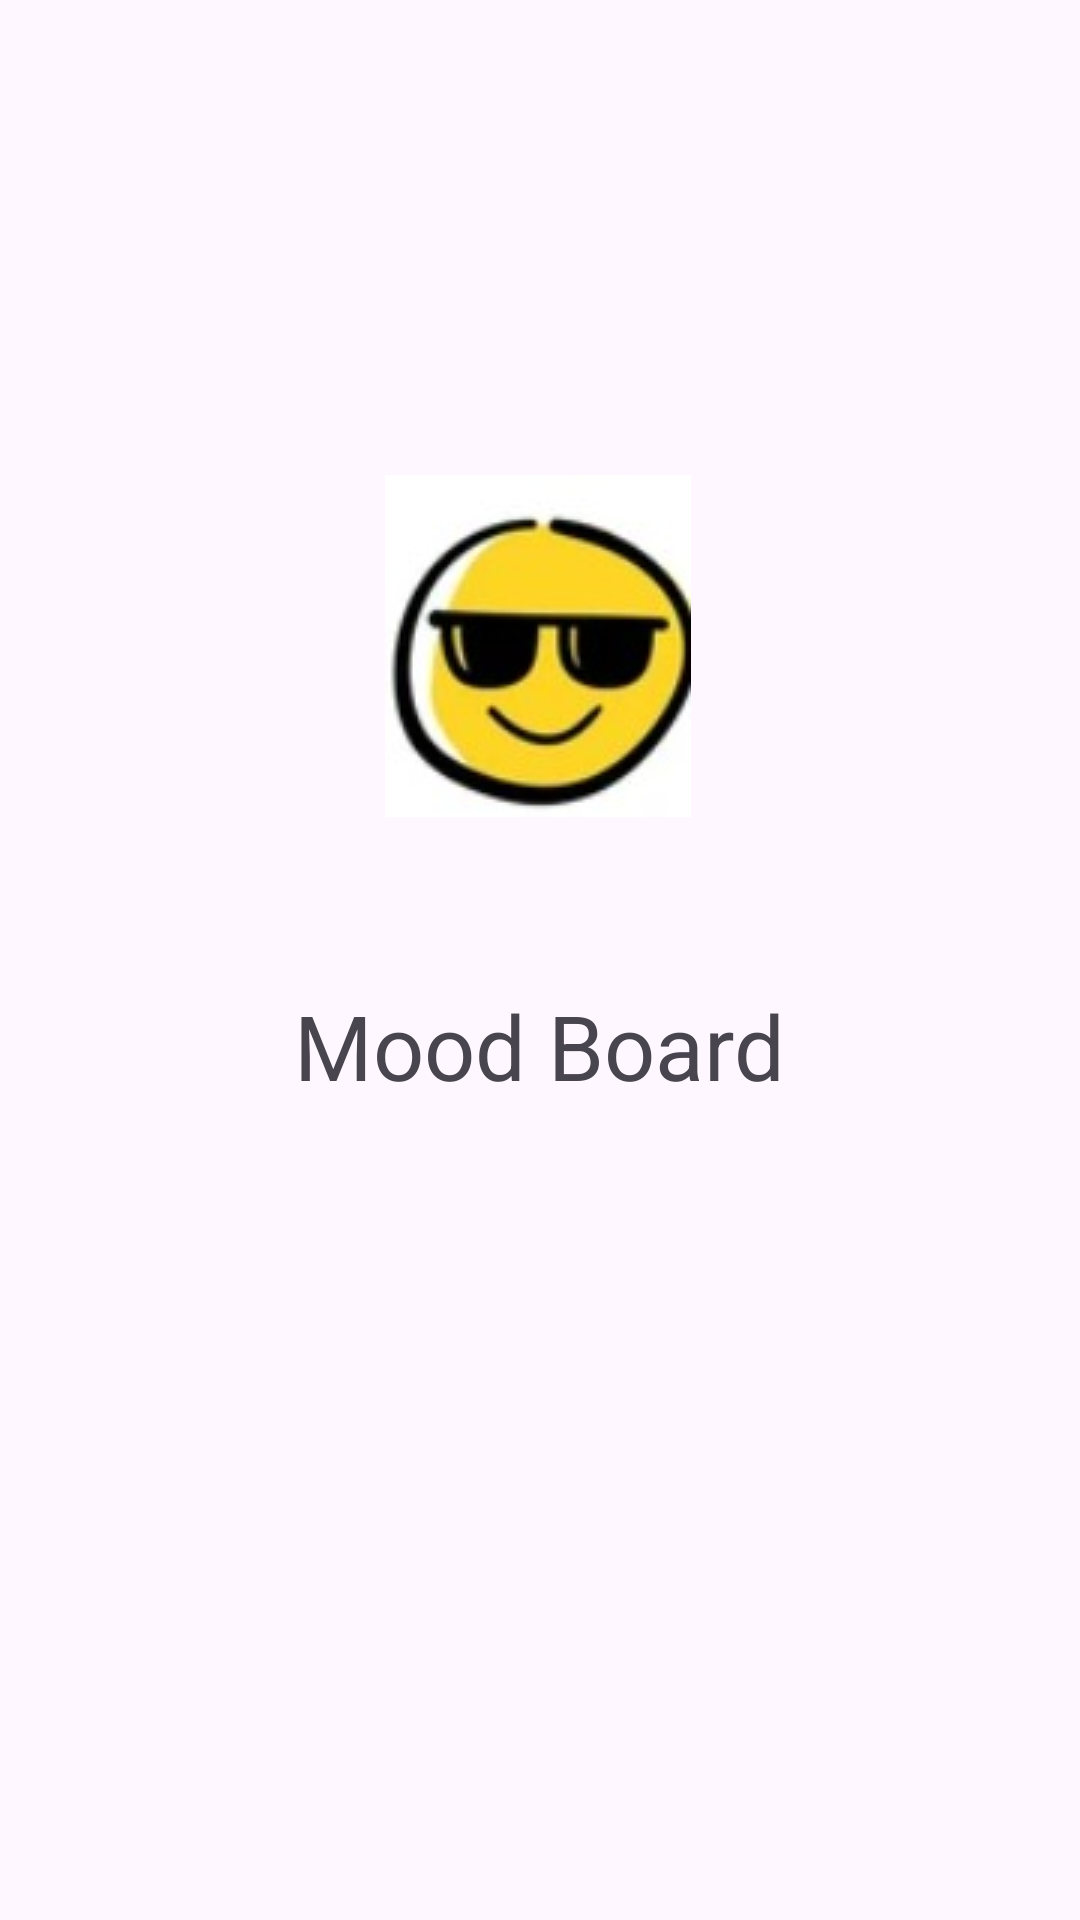

Icon bounding boxes for this 1080w x 1920h phone screenshot, format bbox=(x1, y1, x2, y2):
boss: bbox=(391, 515, 691, 808)
